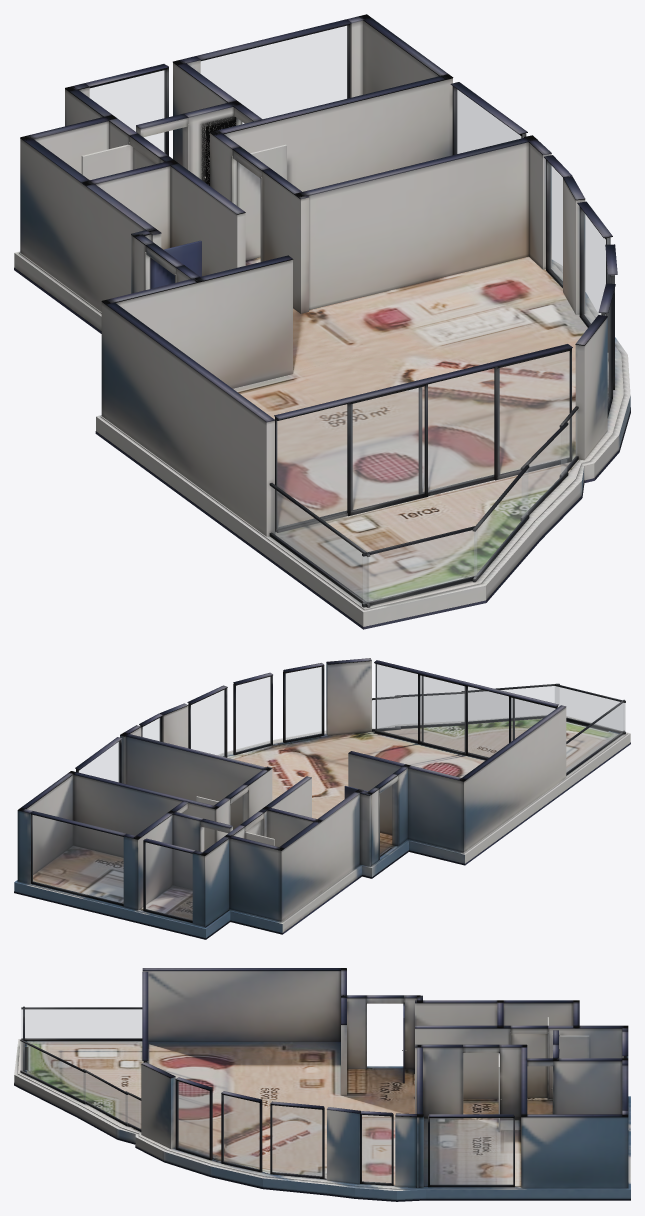
The picture shows the model from 3 angles, top to bottom: view 1: azimuth 30°, elevation 25°; view 2: azimuth 150°, elevation 25°; view 3: azimuth 270°, elevation 25°; orthographic projection. The views are drawn at different scales.
Visible parts, largest first — view 1: plan, glass3_m, glass0_m, railg3_m, railg4_m, glass1_m, railg1_m, glass2_m, glass5_m, railg2_m, glass4_m; view 2: plan, glass3_m, glass0_m, glass1_m, glass7_m, glass6_m, railg1_m, glass5_m, railg3_m, railg4_m, railg2_m, glass2_m (+1 smaller); view 3: plan, glass2_m, railg4_m, glass5_m, glass6_m, glass7_m, glass4_m, railg1_m, railg2_m, railg0_m.
Part boxes in pixels (left/top/right/bottom): plan: left=14, top=14, right=630, bottom=629; glass3_m: left=276, top=351, right=569, bottom=528; glass0_m: left=201, top=26, right=347, bottom=123; railg3_m: left=363, top=530, right=476, bottom=603; railg4_m: left=271, top=487, right=368, bottom=603; glass1_m: left=90, top=70, right=165, bottom=152; railg1_m: left=474, top=470, right=527, bottom=578; glass2_m: left=456, top=89, right=520, bottom=153; glass5_m: left=582, top=211, right=605, bottom=324; railg2_m: left=522, top=427, right=566, bottom=516; glass4_m: left=549, top=163, right=562, bottom=282; plan: left=14, top=658, right=630, bottom=939; glass3_m: left=375, top=664, right=554, bottom=757; glass0_m: left=32, top=815, right=123, bottom=903; glass1_m: left=145, top=843, right=192, bottom=920; glass7_m: left=286, top=667, right=321, bottom=740; glass6_m: left=236, top=677, right=270, bottom=752; railg1_m: left=468, top=686, right=558, bottom=721; glass5_m: left=191, top=690, right=224, bottom=756; railg3_m: left=555, top=686, right=625, bottom=731; railg4_m: left=566, top=703, right=623, bottom=772; railg2_m: left=401, top=694, right=463, bottom=725; glass2_m: left=79, top=741, right=119, bottom=781; plan: left=14, top=968, right=630, bottom=1201; glass2_m: left=430, top=1118, right=512, bottom=1184; railg4_m: left=21, top=1009, right=141, bottom=1038; glass5_m: left=272, top=1105, right=321, bottom=1176; glass6_m: left=223, top=1095, right=259, bottom=1169; glass7_m: left=178, top=1081, right=209, bottom=1157; glass4_m: left=362, top=1115, right=391, bottom=1183; railg1_m: left=21, top=1042, right=85, bottom=1101; railg2_m: left=84, top=1073, right=127, bottom=1123; railg0_m: left=126, top=1095, right=140, bottom=1129.
Bounding box in the file's own units: 10.39 × 2.62 × 17.78.
2 materials, 1 textured.
